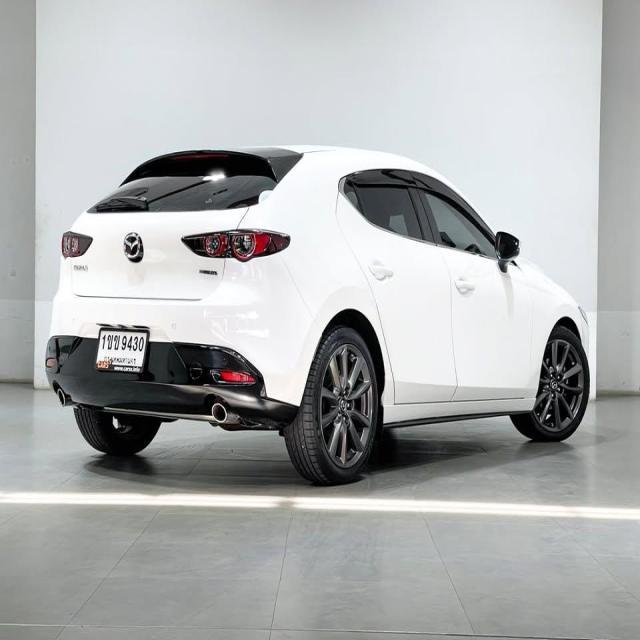Hatchback: (42, 145, 595, 489)
